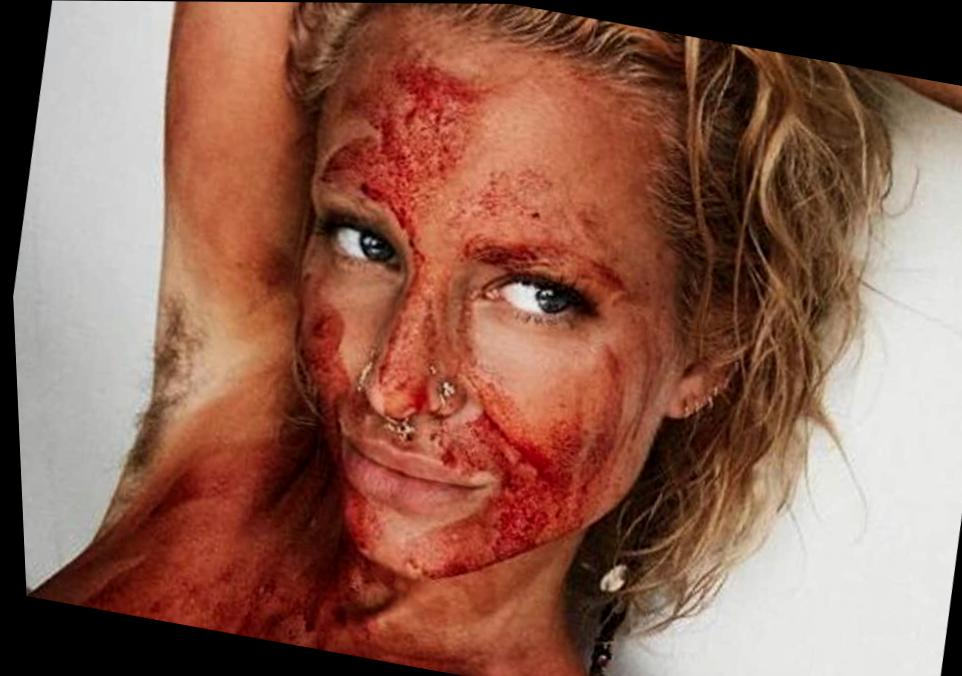Fire: (30, 11, 674, 676)
